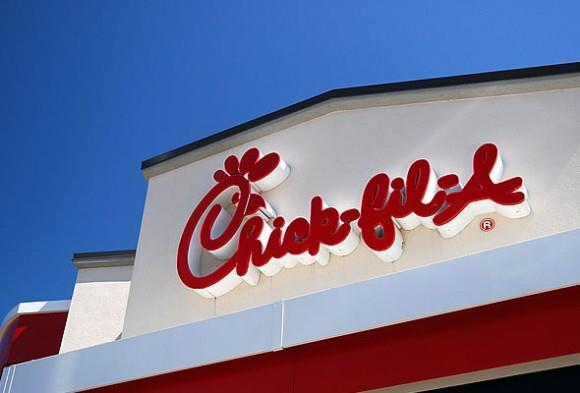Chick_Fil_A: (176, 140, 526, 303)
